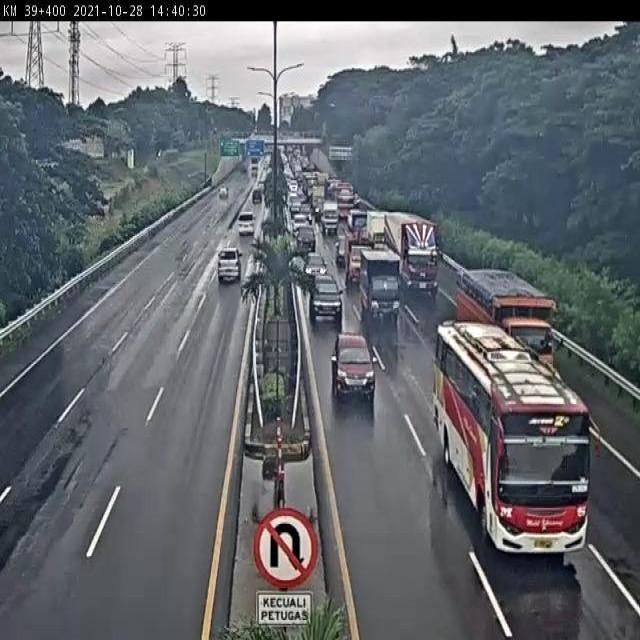big bus: (435, 321, 587, 552)
big truck: (383, 212, 439, 292)
car: (332, 335, 376, 396), (309, 277, 343, 324), (215, 252, 241, 281), (235, 209, 259, 240), (296, 222, 316, 255), (305, 253, 326, 280)
mid truck: (458, 267, 552, 385)
small truck: (359, 249, 398, 316), (345, 227, 377, 280)
